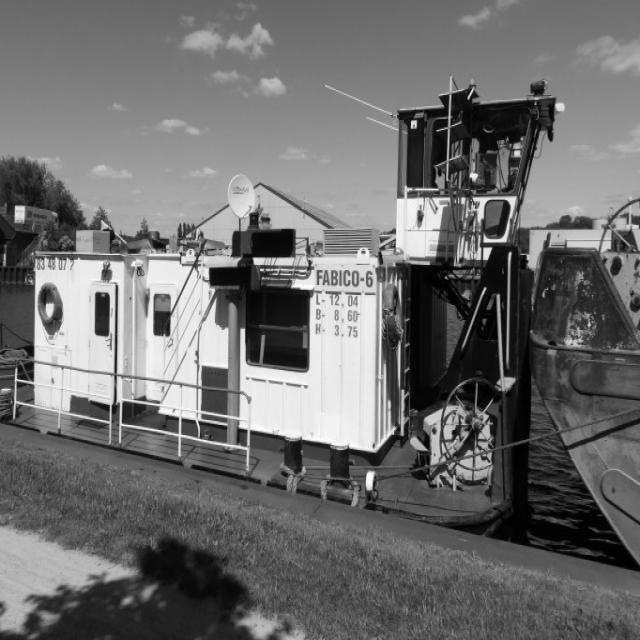tugboat: (1, 72, 569, 541)
